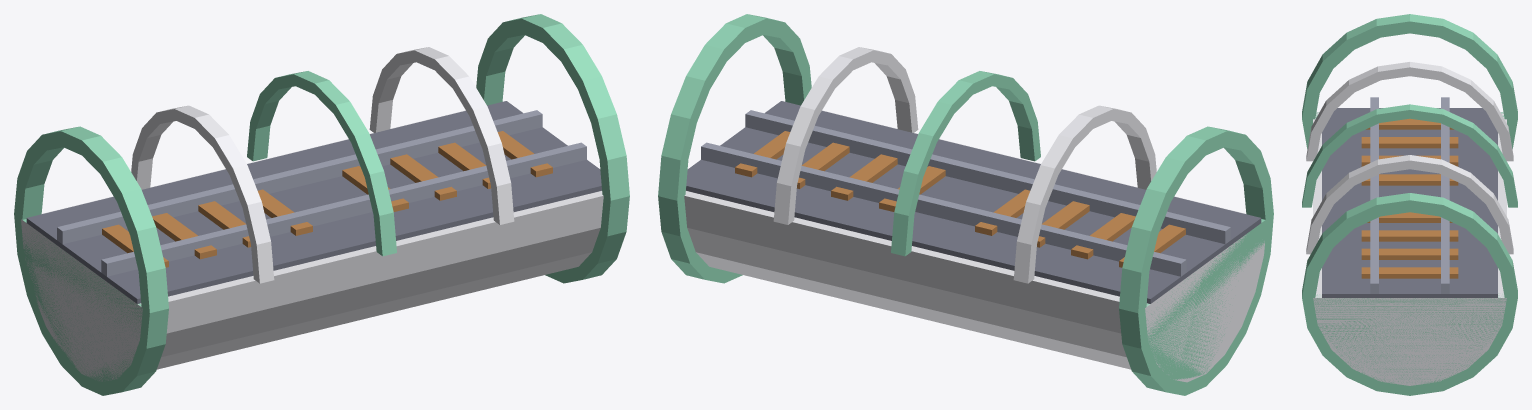
File: tunnel-1x1-straight.glb
The picture shows the model from 3 angles, left to right: view 1: azimuth 30°, elevation 25°; view 2: azimuth 150°, elevation 25°; view 3: azimuth 270°, elevation 25°; orthographic projection. The views are drawn at different scales.
Parts seen in each view (by area): view 1: tunnel-1x1-straight; view 2: tunnel-1x1-straight; view 3: tunnel-1x1-straight.
Boxes of the visible parts, x1,y1,x2,y2 form: tunnel-1x1-straight: [14, 14, 629, 395]; tunnel-1x1-straight: [658, 14, 1273, 395]; tunnel-1x1-straight: [1302, 14, 1517, 395].
Size of the model in its own units: 1 by 0.49 by 0.49.
1 material, 1 textured.
